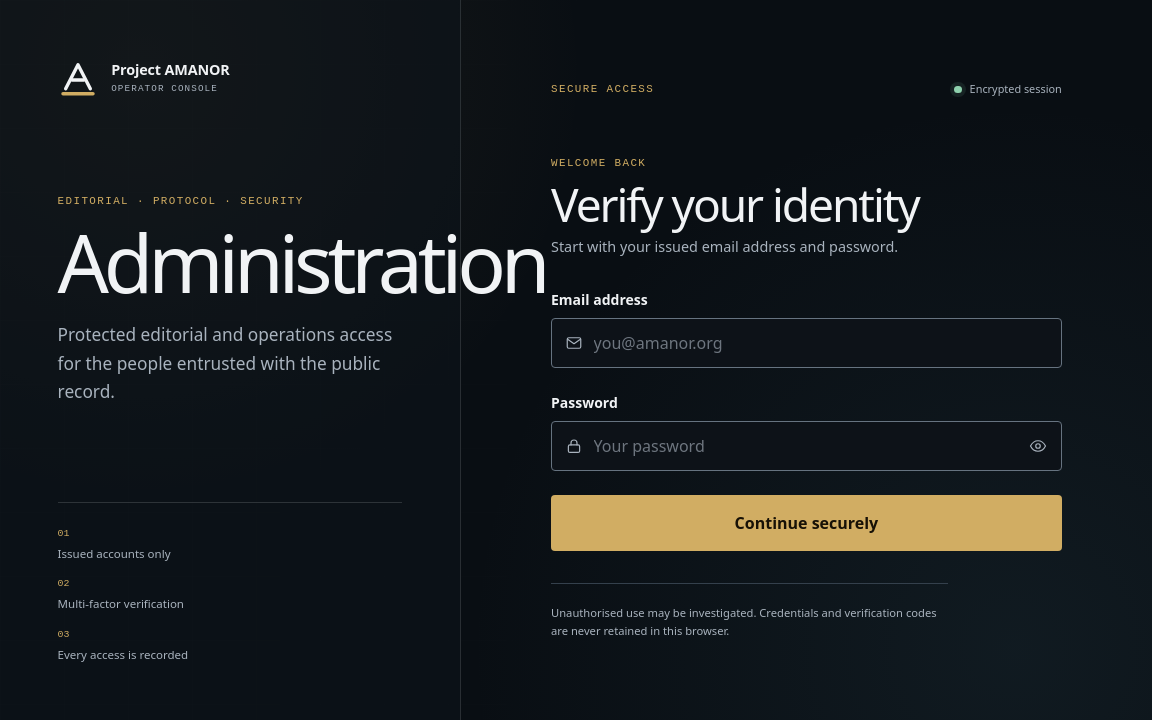
Test: admin application › reveals MFA only after the credentials step succeeds
The image size is (1152, 720).
Type "editor@example.test" into the field labelled "Email address".
click(806, 343); type("editor@example.test")  # box [551,318,1062,368]
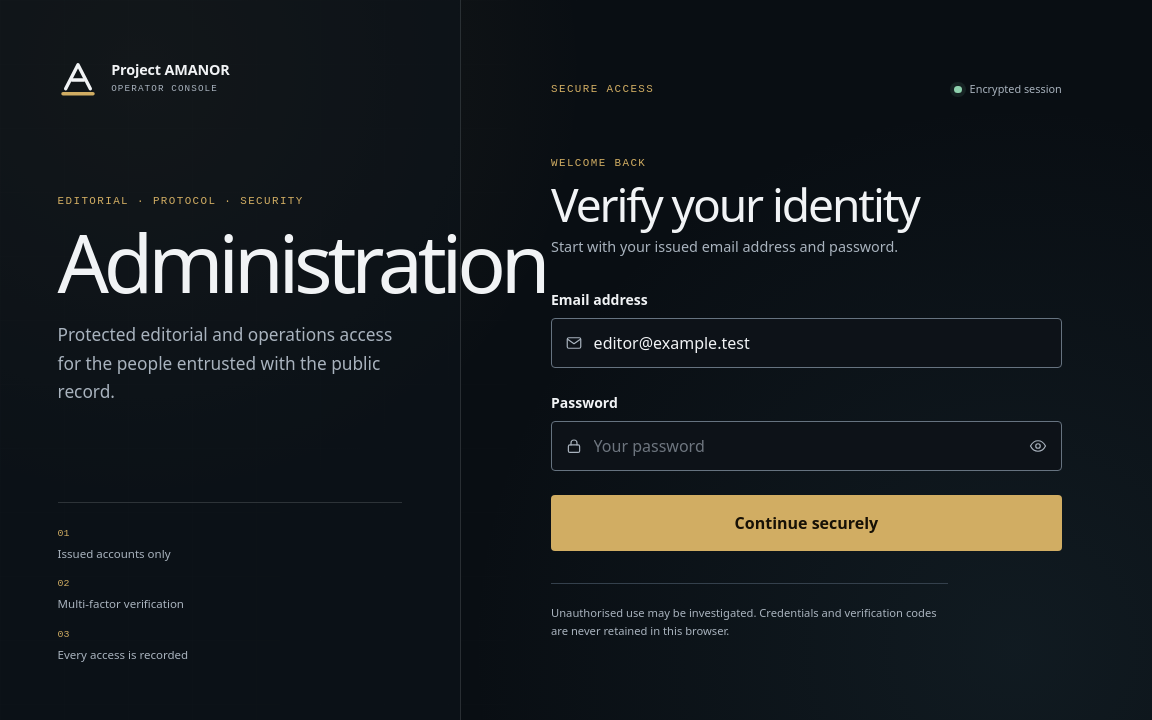
Type "a-long-development-passphrase" into the password field labelled "Password".
click(806, 446); type("a-long-development-passphrase")  # box [551,421,1062,471]
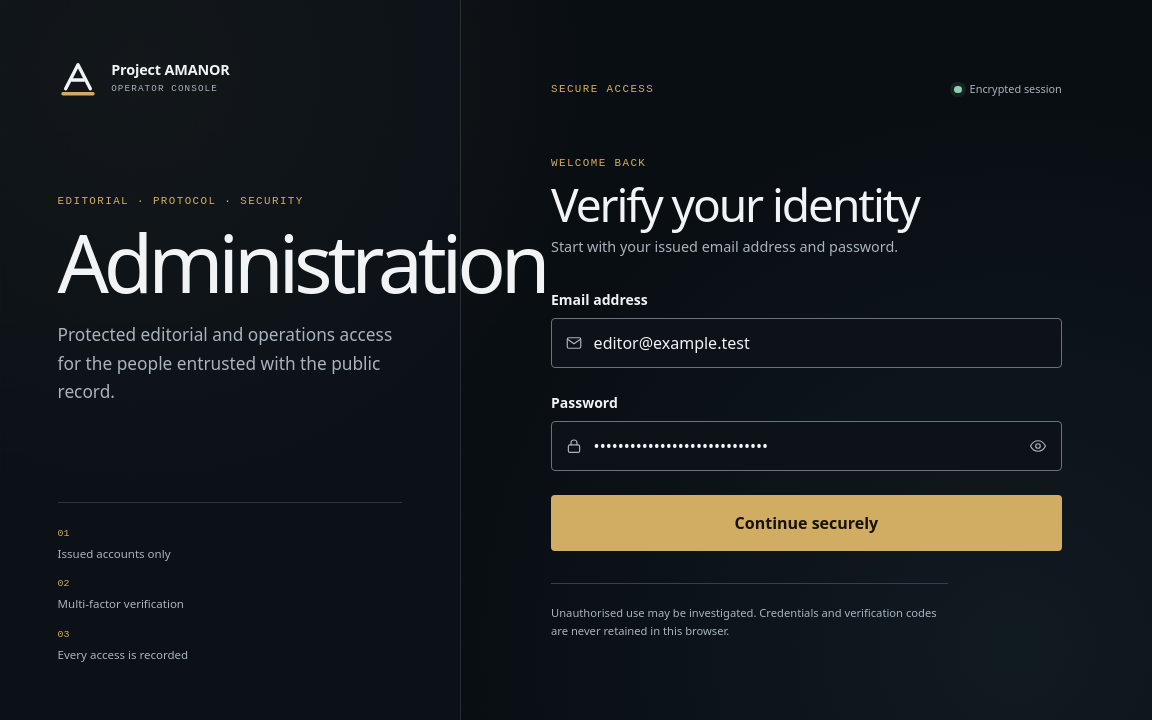
Click the button "Continue securely".
click(806, 523)  # box [551,495,1062,551]
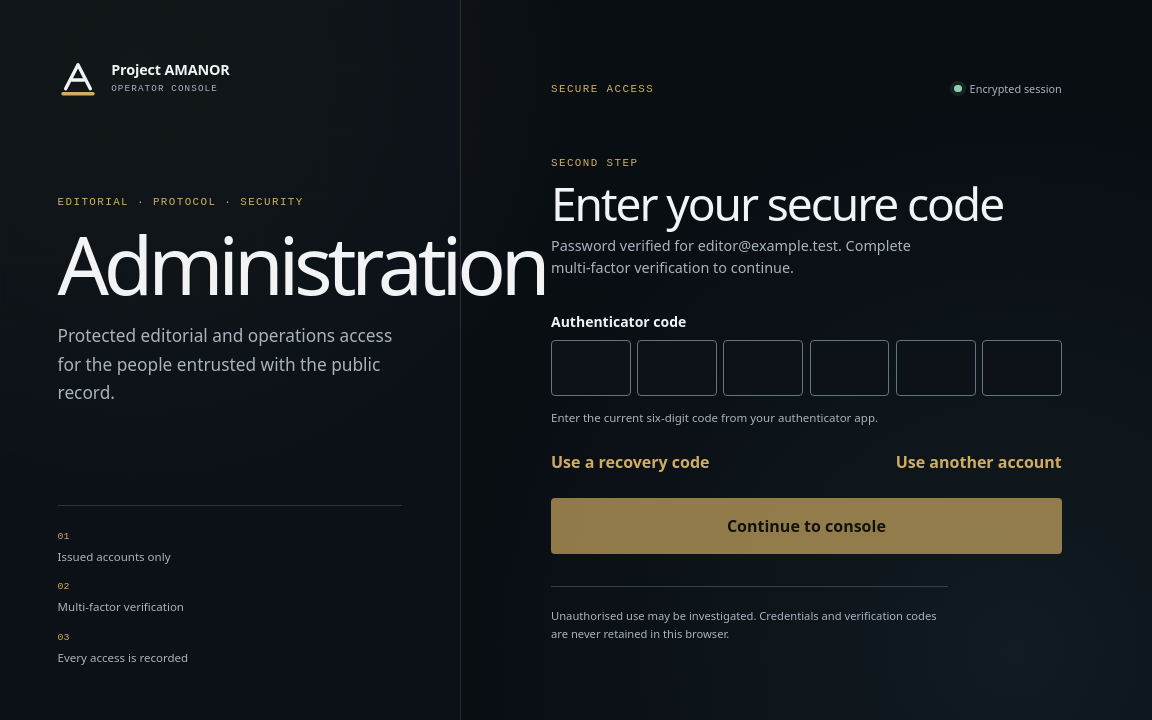
Expected: the field named "Digit 1 of 6" is shown, [551,340,631,396]
